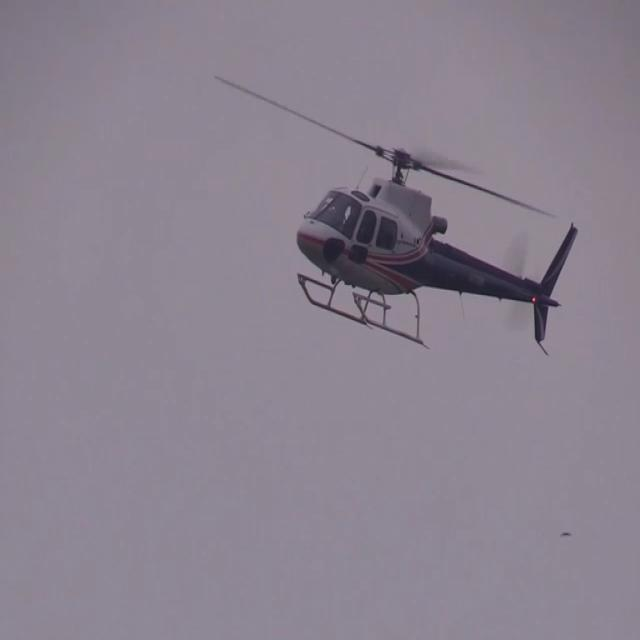Helicopter: (223, 75, 587, 385)
